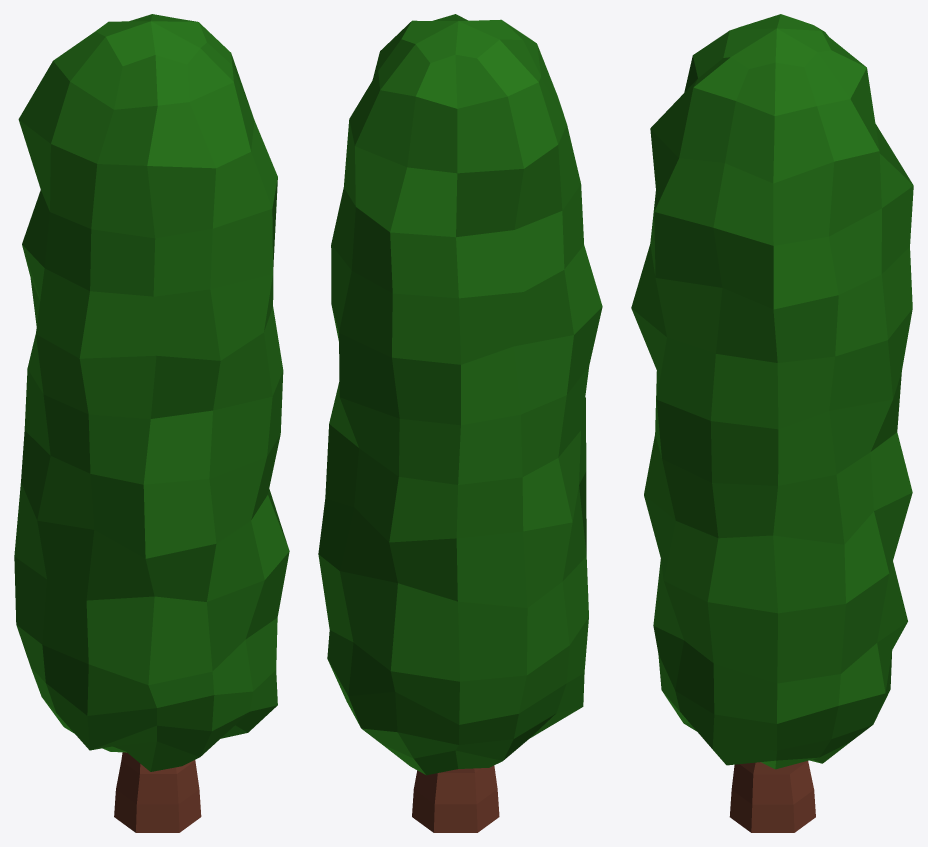
File: TreeL.glb
3 renders of one model, left to right at view 1: azimuth 30°, elevation 25°; view 2: azimuth 150°, elevation 25°; view 3: azimuth 270°, elevation 25°, orthographic.
Visible parts, largest first — view 1: Cylinder.008, Cylinder.007; view 2: Cylinder.008, Cylinder.007; view 3: Cylinder.008, Cylinder.007.
Part boxes in pixels (x1,y1,x2,y2): Cylinder.008: [14, 14, 289, 771]; Cylinder.007: [114, 752, 201, 832]; Cylinder.008: [318, 14, 602, 775]; Cylinder.007: [412, 765, 499, 832]; Cylinder.008: [631, 14, 913, 769]; Cylinder.007: [729, 761, 815, 832].
Bounding box in the file's own units: 3.75 × 12.07 × 3.93.
